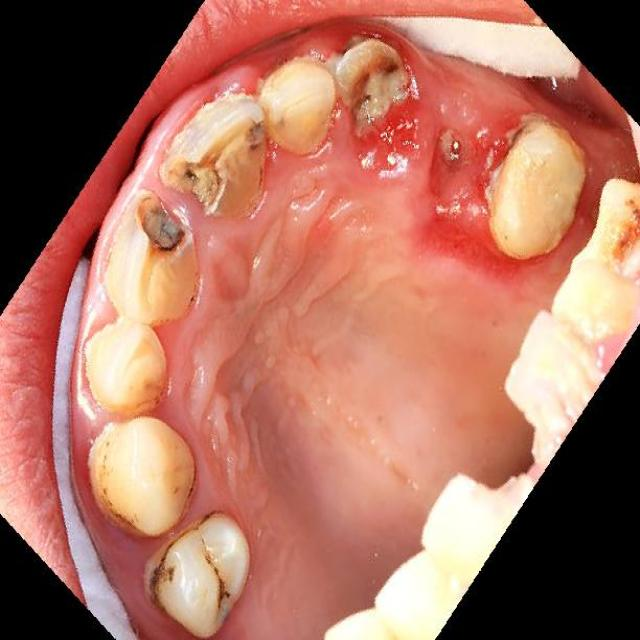caries: (164, 119, 265, 197), (129, 201, 190, 274), (336, 56, 404, 118), (607, 187, 640, 284), (204, 550, 237, 609)
